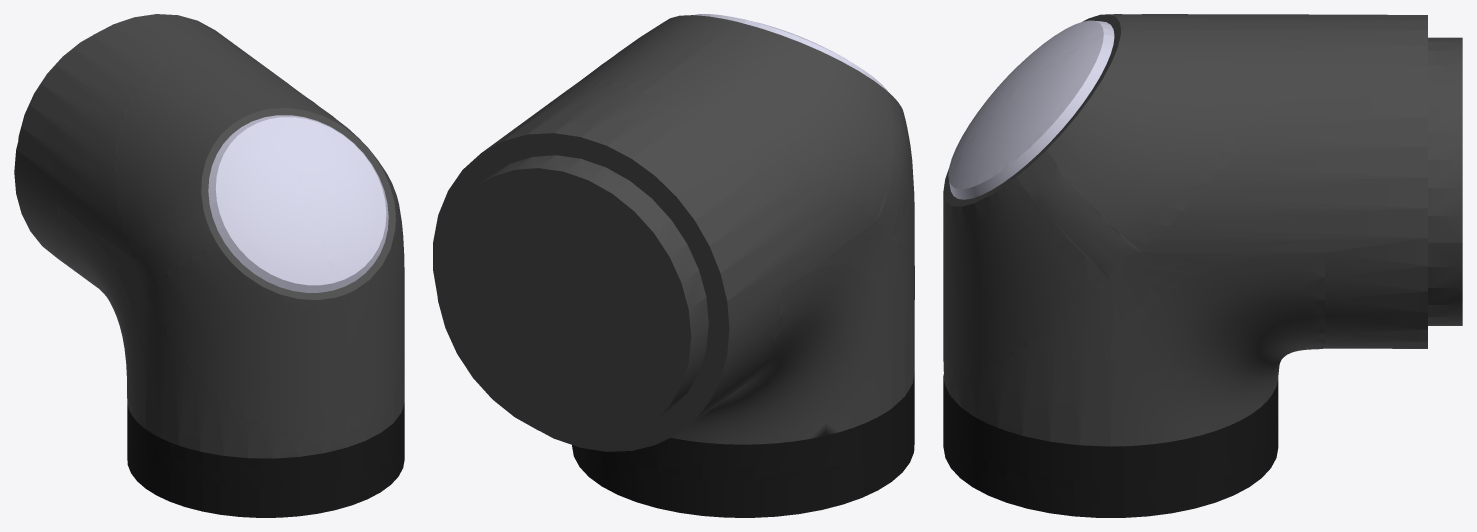
The picture shows the model from 3 angles, left to right: view 1: azimuth 30°, elevation 25°; view 2: azimuth 150°, elevation 25°; view 3: azimuth 270°, elevation 25°; orthographic projection. The views are drawn at different scales.
Visible parts, largest first — view 1: mesh; view 2: mesh; view 3: mesh.
Boxes of the visible parts, box(x1,y1,x2,y2) form: mesh: box(14, 14, 404, 517); mesh: box(433, 14, 914, 517); mesh: box(943, 14, 1462, 517).
Size of the model in its own units: 0.072 by 0.1116 by 0.099.
